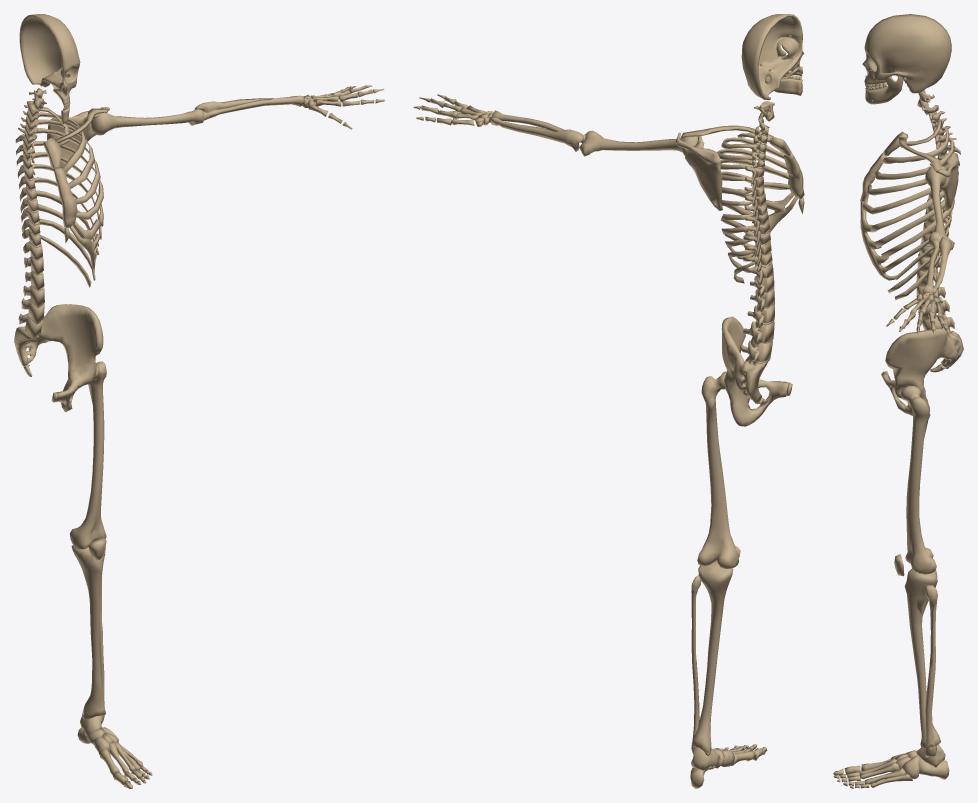
File: HalfSkeleton.fbx
The picture shows the model from 3 angles, left to right: view 1: azimuth 30°, elevation 25°; view 2: azimuth 150°, elevation 25°; view 3: azimuth 270°, elevation 25°; orthographic projection. The views are drawn at different scales.
Visible parts, largest first — view 1: FemaleHalfSkeletalHipLeftandSacrum, FemaleHalfSkull, FemaleHalfSkeletalFemur, FemaleHalfSkeletalTibia, FemaleSkeletalHumerus, FemaleHalfSkeletalSternum, FemaleHalfSkeletalScapula, FemaleSkeletalRadius, FemaleHalfSkeletalCostalCartilages; view 2: FemaleHalfSkull, FemaleHalfSkeletalFemur, FemaleHalfSkeletalHipLeftandSacrum, FemaleHalfSkeletalTibia, FemaleHalfSkeletalScapula, FemaleSkeletalHumerus, FemaleSkeletalUlna, FemaleHalfSkeletalFibula, FemaleHalfSkeletalSternum, FemaleHalfSkeletalCostalCartilages; view 3: FemaleHalfSkull, FemaleHalfSkeletalHipLeftandSacrum, FemaleHalfSkeletalFemur, FemaleHalfSkeletalTibia, FemaleHalfSkeletalFibula, FemaleSkeletalHumerus, FemaleHalfSkeletalScapula, FemaleHalfSkeletalCostalCartilages, FemaleHalfJaw, FemaleHalfSkeletalSternum, FemaleHalfSkeletalRibs05, FemaleHalfSkeletalRibs03 (+14 smaller).
Part boxes in pixels (bbox=[...]): FemaleHalfSkeletalHipLeftandSacrum: bbox=[14, 304, 103, 411]; FemaleHalfSkull: bbox=[19, 14, 80, 105]; FemaleHalfSkeletalFemur: bbox=[69, 361, 106, 549]; FemaleHalfSkeletalTibia: bbox=[71, 545, 105, 719]; FemaleSkeletalHumerus: bbox=[91, 108, 203, 135]; FemaleHalfSkeletalSternum: bbox=[43, 138, 77, 243]; FemaleHalfSkeletalScapula: bbox=[47, 107, 109, 172]; FemaleSkeletalRadius: bbox=[203, 96, 305, 120]; FemaleHalfSkeletalCostalCartilages: bbox=[69, 219, 100, 270]; FemaleHalfSkull: bbox=[741, 14, 804, 100]; FemaleHalfSkeletalFemur: bbox=[697, 371, 738, 568]; FemaleHalfSkeletalHipLeftandSacrum: bbox=[721, 316, 792, 426]; FemaleHalfSkeletalTibia: bbox=[691, 561, 733, 755]; FemaleHalfSkeletalScapula: bbox=[675, 132, 722, 210]; FemaleSkeletalHumerus: bbox=[579, 130, 697, 156]; FemaleSkeletalUlna: bbox=[489, 117, 583, 151]; FemaleHalfSkeletalFibula: bbox=[691, 575, 701, 754]; FemaleHalfSkeletalSternum: bbox=[770, 137, 804, 213]; FemaleHalfSkeletalCostalCartilages: bbox=[738, 192, 797, 259]; FemaleHalfSkull: bbox=[862, 14, 951, 93]; FemaleHalfSkeletalHipLeftandSacrum: bbox=[881, 328, 963, 415]; FemaleHalfSkeletalFemur: bbox=[901, 385, 936, 574]; FemaleHalfSkeletalTibia: bbox=[904, 568, 940, 748]; FemaleHalfSkeletalFibula: bbox=[925, 585, 937, 757]; FemaleSkeletalHumerus: bbox=[925, 166, 954, 249]; FemaleHalfSkeletalScapula: bbox=[929, 153, 958, 210]; FemaleHalfSkeletalCostalCartilages: bbox=[860, 201, 896, 280]; FemaleHalfJaw: bbox=[865, 76, 903, 104]; FemaleHalfSkeletalSternum: bbox=[860, 131, 908, 202]; FemaleHalfSkeletalRibs05: bbox=[862, 155, 943, 214]; FemaleHalfSkeletalRibs03: bbox=[873, 137, 954, 179].
Size of the model in its own units: 70.87 by 147 by 23.68.
